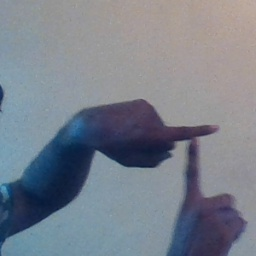T: (133, 107, 246, 214)
